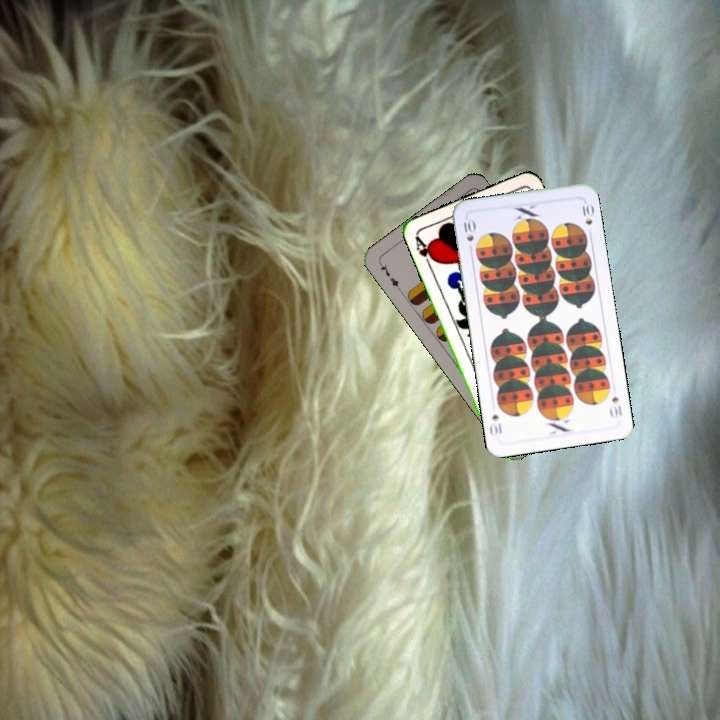E7: (375, 258, 404, 294)
HA: (411, 231, 439, 270)
S10: (459, 214, 477, 255), (606, 392, 625, 421)
